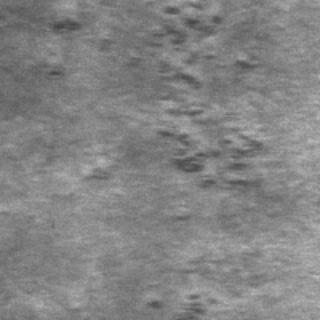rolled pit: (115, 95, 259, 202), (93, 0, 251, 91), (2, 3, 82, 83), (141, 258, 221, 316)
